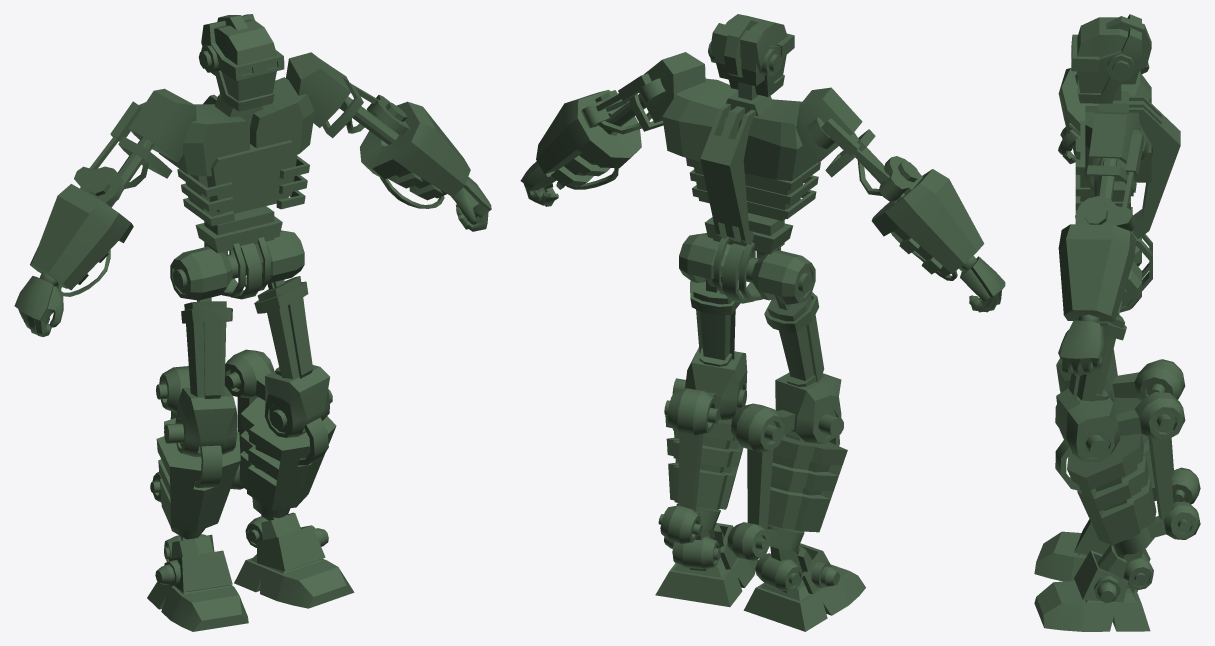
The model's file is roboenemy.fbx.
3 views of the same model, side by side, from view 1: azimuth 30°, elevation 25°; view 2: azimuth 150°, elevation 25°; view 3: azimuth 270°, elevation 25° (orthographic).
Parts seen in each view (by area): view 1: body_d13; view 2: body_d13; view 3: body_d13.
Part boxes in pixels (<box>): body_d13: <box>14,14,491,631</box>; body_d13: <box>520,14,1005,631</box>; body_d13: <box>1034,14,1200,631</box>.
Bounding box in the file's own units: 170 × 200 × 52.38.
